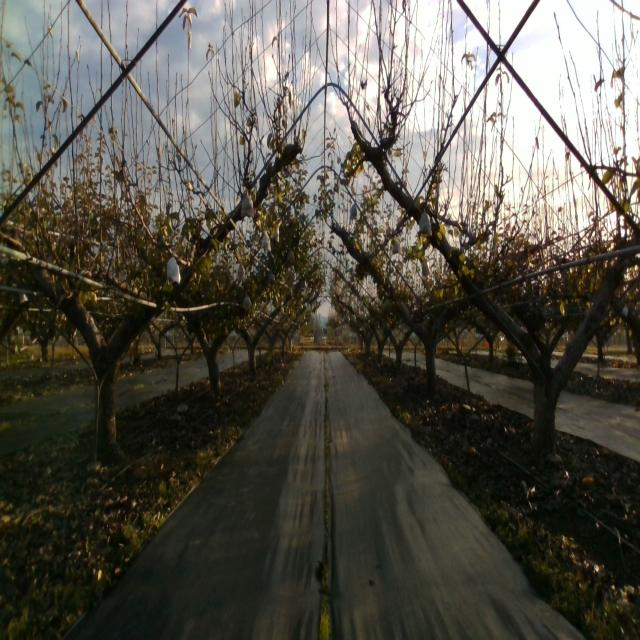pearbags: (167, 250, 181, 286), (418, 208, 432, 237), (241, 190, 254, 219), (262, 229, 272, 252)
